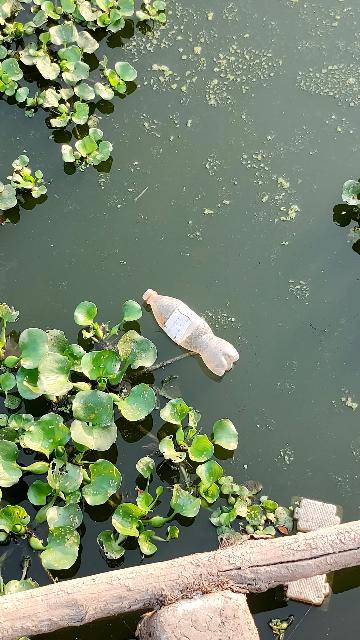bottle: (130, 262, 262, 394)
